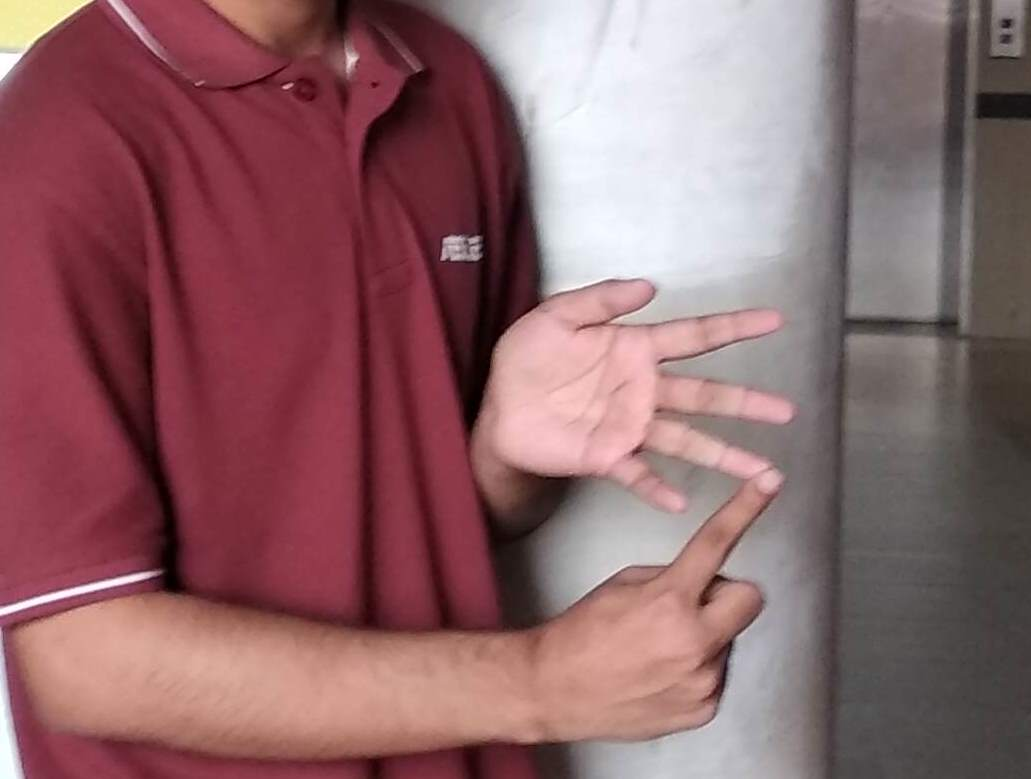e: (541, 288, 804, 593)
